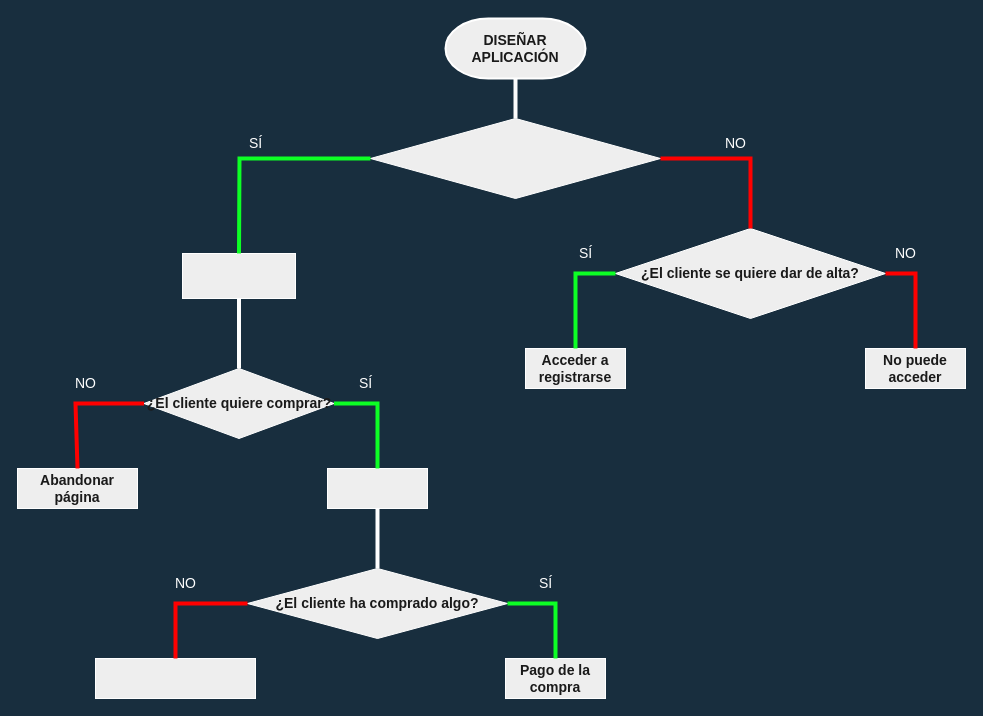
This 983x716 diagram has some shape labels left out. The shapes that lost their labels are listed below. From the top down, each one's box as (x1, y1, x2, y2) in pixels, then its label:
(370, 118, 660, 198): ¿El cliente está dado de alta?
(182, 252, 296, 298): Sigue comprando
(326, 468, 428, 508): Acceder a comprar
(94, 658, 256, 698): Seguir buscando productos
